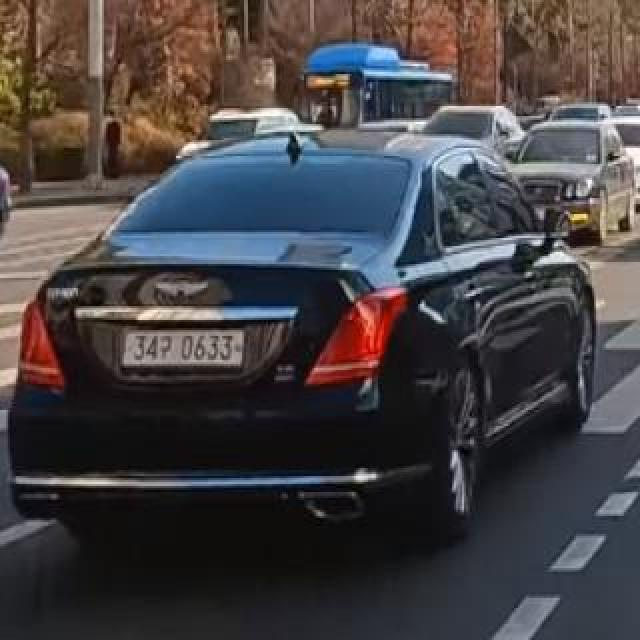car: (1, 120, 605, 529)
illegal_plate: (119, 328, 247, 372)
